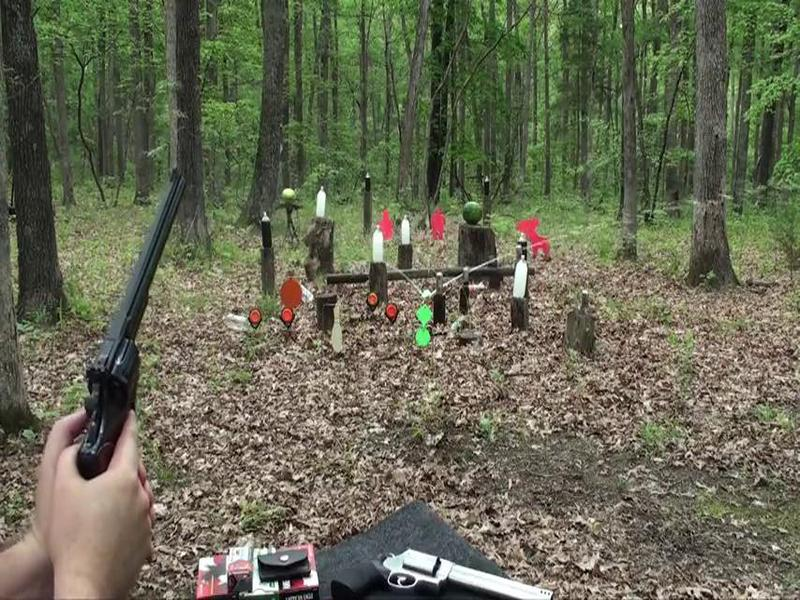Revolver: (76, 160, 200, 510)
